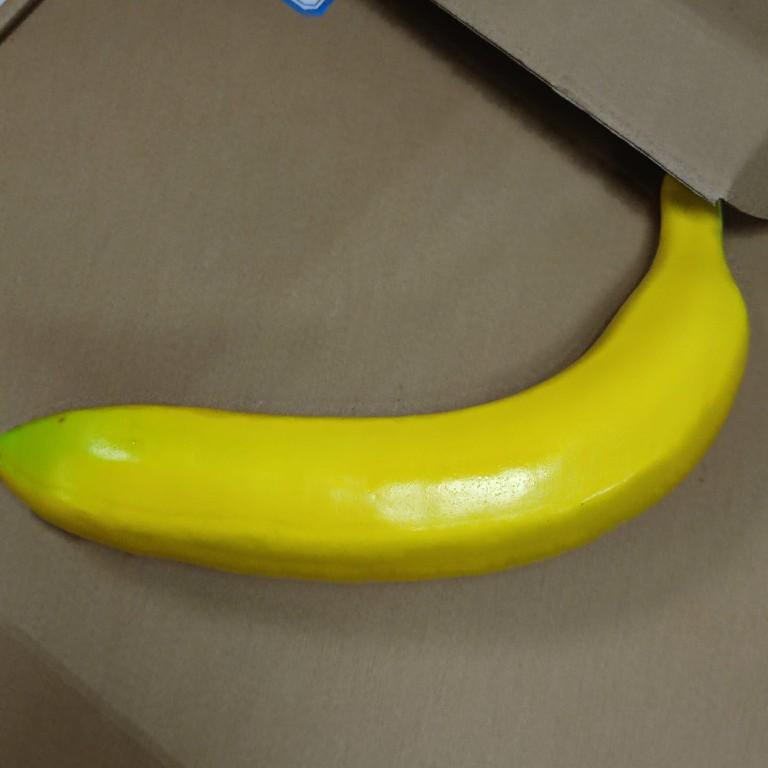fruit_banana: (1, 167, 755, 580)
